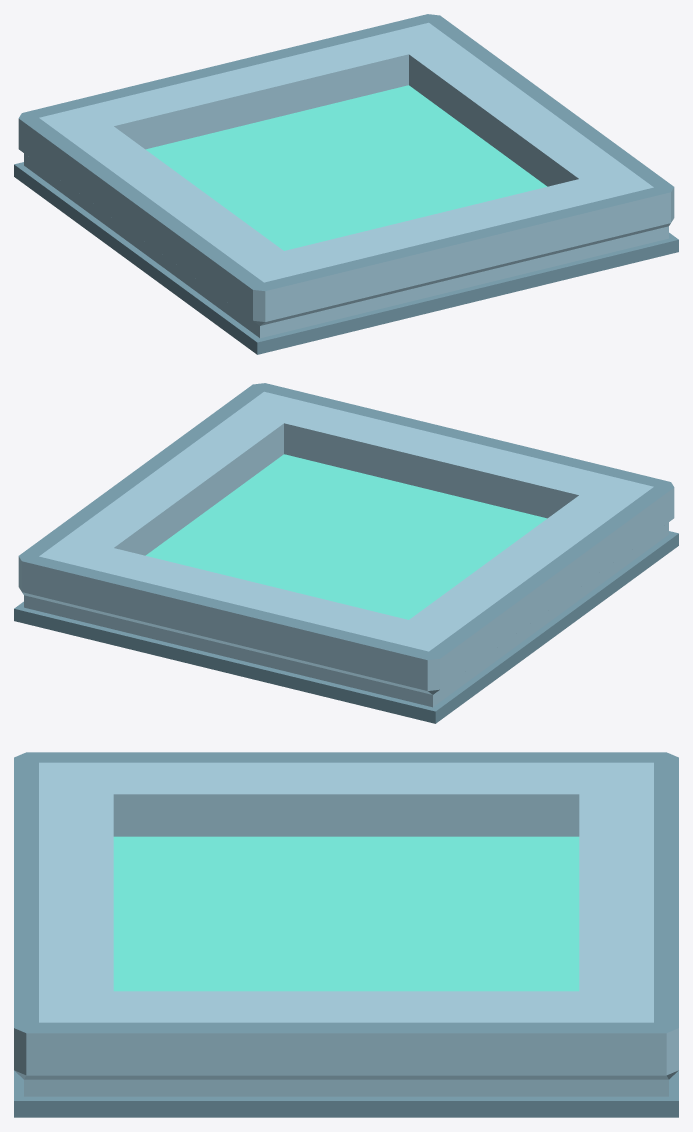
The model's file is fountainSquare.fbx.
The picture shows the model from 3 angles, top to bottom: view 1: azimuth 30°, elevation 25°; view 2: azimuth 150°, elevation 25°; view 3: azimuth 270°, elevation 25°; orthographic projection. The views are drawn at different scales.
Parts seen in each view (by area): view 1: fountainSquare; view 2: fountainSquare; view 3: fountainSquare.
Boxes of the visible parts, <box> form: fountainSquare: <box>14,14,678,354</box>; fountainSquare: <box>14,383,678,723</box>; fountainSquare: <box>14,752,678,1117</box>.
Bounding box in the file's own units: 20 × 2.8 × 20.
